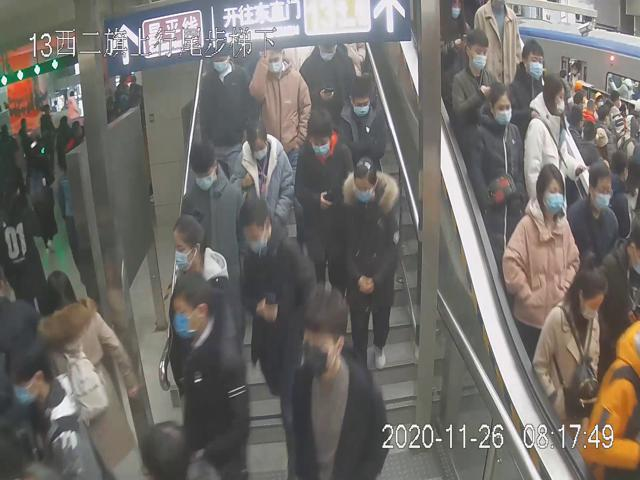person: (237, 197, 309, 470), (168, 270, 248, 468), (500, 164, 578, 359), (335, 153, 403, 368), (532, 252, 608, 432), (464, 79, 524, 273), (290, 106, 352, 277), (177, 139, 245, 273), (227, 122, 294, 240), (449, 24, 502, 152), (195, 50, 251, 160), (248, 45, 309, 139), (169, 212, 229, 307), (335, 75, 387, 164)
